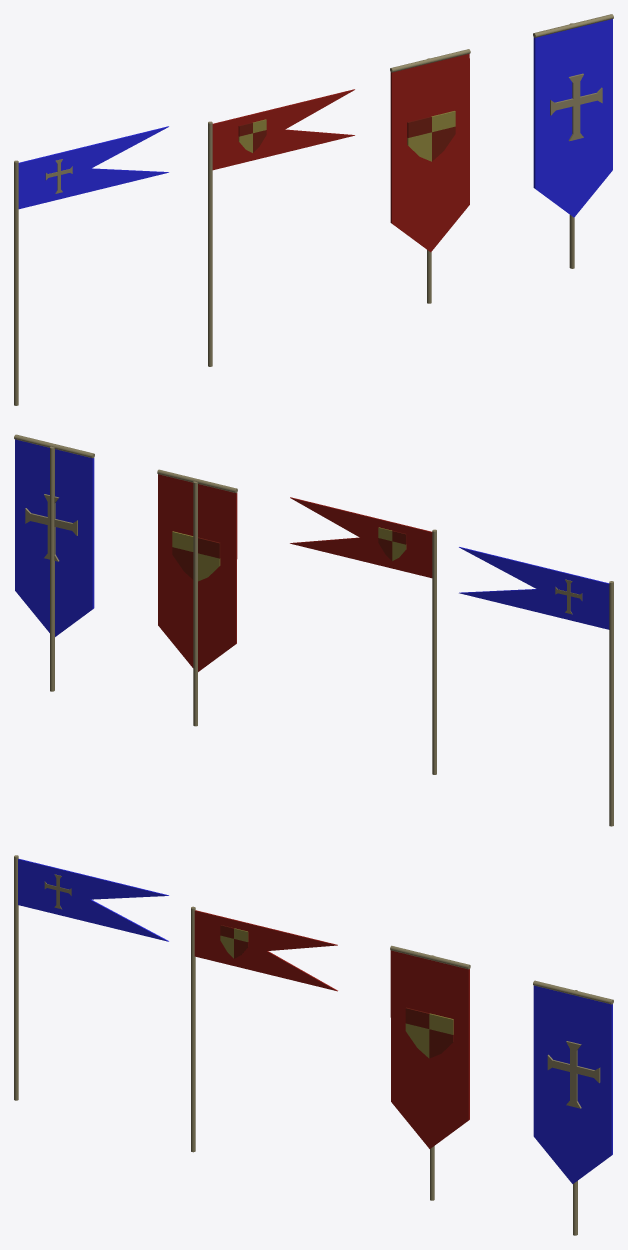
The model's file is Flags.glb.
3 renders of one model, top to bottom at view 1: azimuth 30°, elevation 25°; view 2: azimuth 150°, elevation 25°; view 3: azimuth 330°, elevation 25°, orthographic.
Parts seen in each view (by area): view 1: Blue Tall Flag, Red Tall Flag, Blue Flag, Red Flag; view 2: Blue Tall Flag, Red Tall Flag, Blue Flag, Red Flag; view 3: Blue Tall Flag, Red Tall Flag, Blue Flag, Red Flag.
Boxes of the visible parts, x1=… form: Blue Tall Flag: x1=533, y1=14, x2=613, y2=268; Red Tall Flag: x1=390, y1=49, x2=470, y2=303; Blue Flag: x1=14, y1=126, x2=168, y2=405; Red Flag: x1=208, y1=89, x2=354, y2=366; Blue Tall Flag: x1=14, y1=434, x2=94, y2=691; Red Tall Flag: x1=157, y1=469, x2=237, y2=726; Blue Flag: x1=459, y1=547, x2=613, y2=826; Red Flag: x1=290, y1=497, x2=436, y2=774; Blue Tall Flag: x1=533, y1=980, x2=613, y2=1235; Red Tall Flag: x1=390, y1=945, x2=470, y2=1200; Blue Flag: x1=14, y1=855, x2=168, y2=1100; Red Flag: x1=191, y1=906, x2=337, y2=1152.
Bounding box in the file's own units: 27.31 × 10.7 × 1.01.
